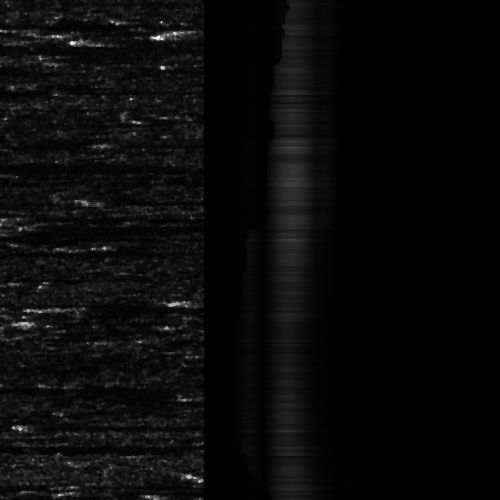object: (0, 433, 49, 458), (0, 40, 26, 57), (0, 420, 33, 427), (89, 140, 130, 145)
shadow: (0, 433, 149, 458), (0, 380, 197, 391), (0, 40, 122, 57), (0, 294, 118, 309), (0, 245, 123, 256), (12, 420, 205, 427), (0, 161, 97, 174), (0, 18, 94, 29), (0, 62, 41, 75), (109, 140, 202, 145)
